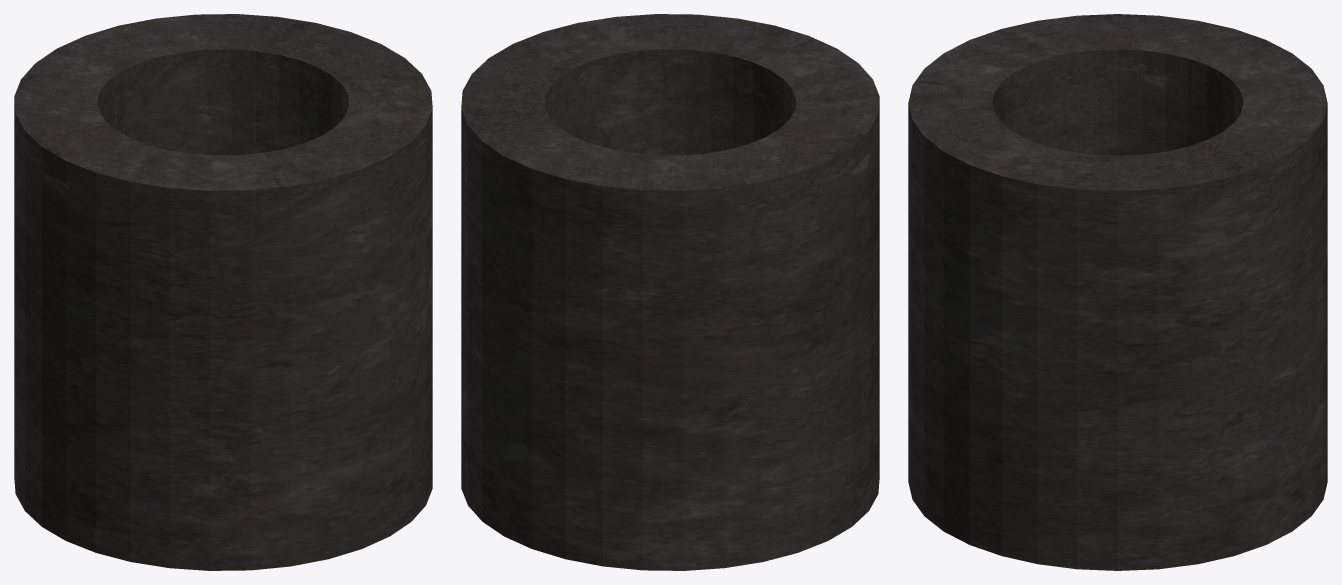
Rendered from Cannon.fbx.
The picture shows the model from 3 angles, left to right: view 1: azimuth 30°, elevation 25°; view 2: azimuth 150°, elevation 25°; view 3: azimuth 270°, elevation 25°; orthographic projection.
Parts seen in each view (by area): view 1: Cannon; view 2: Cannon; view 3: Cannon.
Boxes of the visible parts, bbox=[...] form: Cannon: bbox=[14, 14, 432, 570]; Cannon: bbox=[461, 14, 879, 570]; Cannon: bbox=[908, 14, 1327, 570].
Size of the model in its own units: 200 by 200 by 200.
